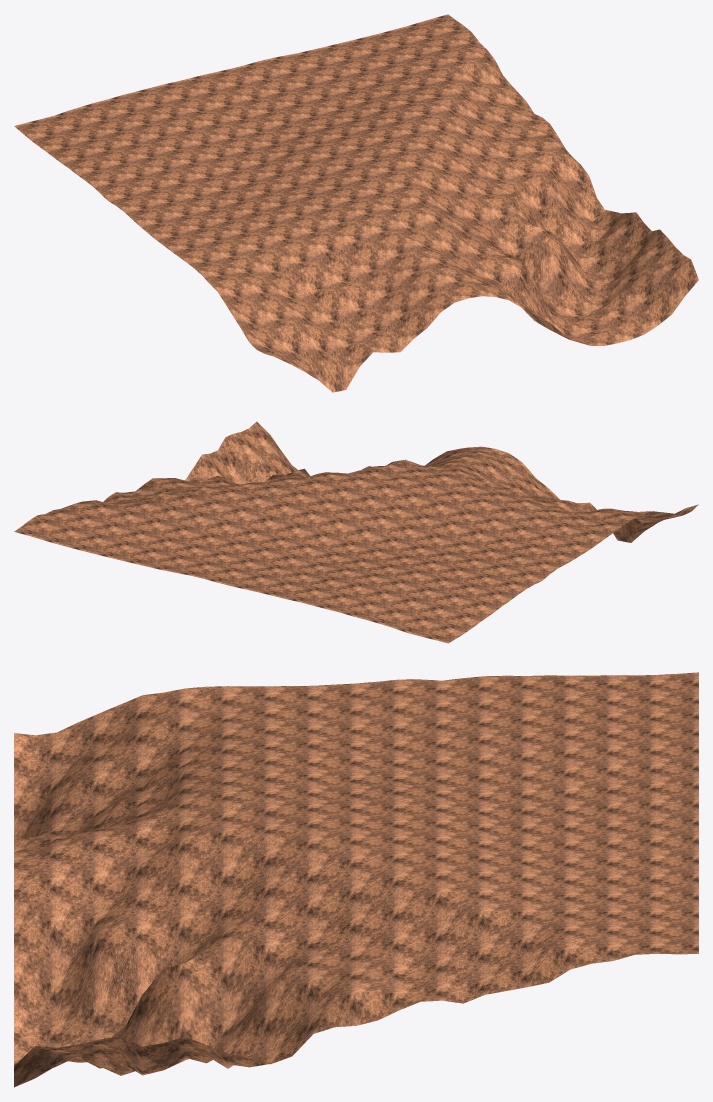
File: terrain_01_20.dae
3 renders of one model, top to bottom at view 1: azimuth 30°, elevation 25°; view 2: azimuth 150°, elevation 25°; view 3: azimuth 270°, elevation 25°, orthographic. The views are drawn at different scales.
Visible parts, largest first — view 1: terrain_01_20-node; view 2: terrain_01_20-node; view 3: terrain_01_20-node.
Boxes of the visible parts, left/top/right/bottom form: terrain_01_20-node: left=14, top=14, right=698, bottom=392; terrain_01_20-node: left=14, top=421, right=698, bottom=643; terrain_01_20-node: left=14, top=672, right=698, bottom=1087.
Bounding box in the file's own units: 128 × 128 × 35.41.
1 material, 1 textured.
